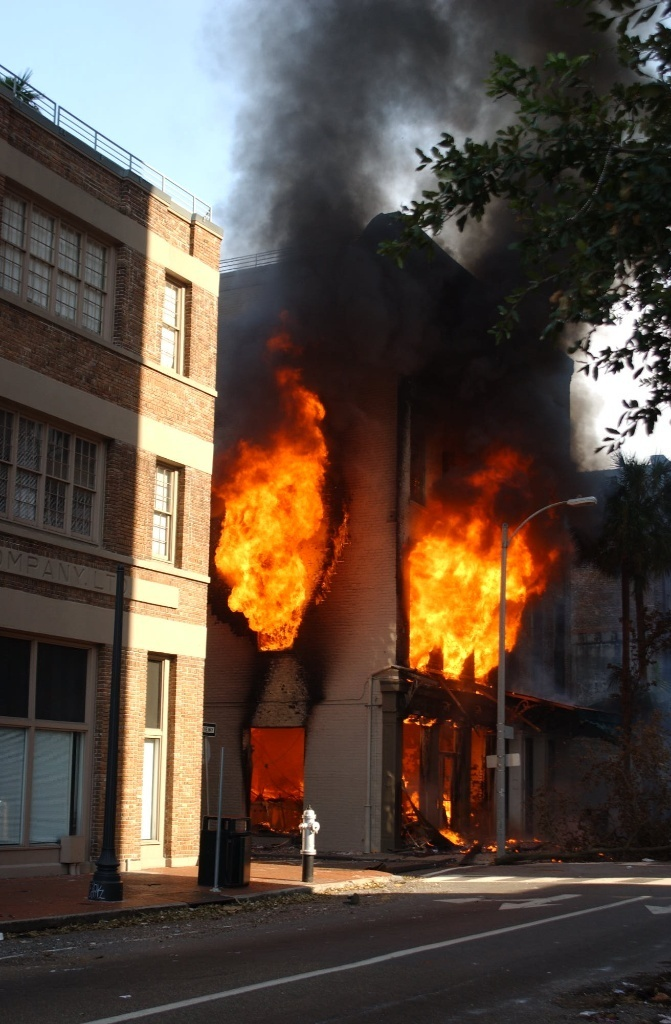fire: (218, 321, 331, 645), (404, 463, 546, 678)
